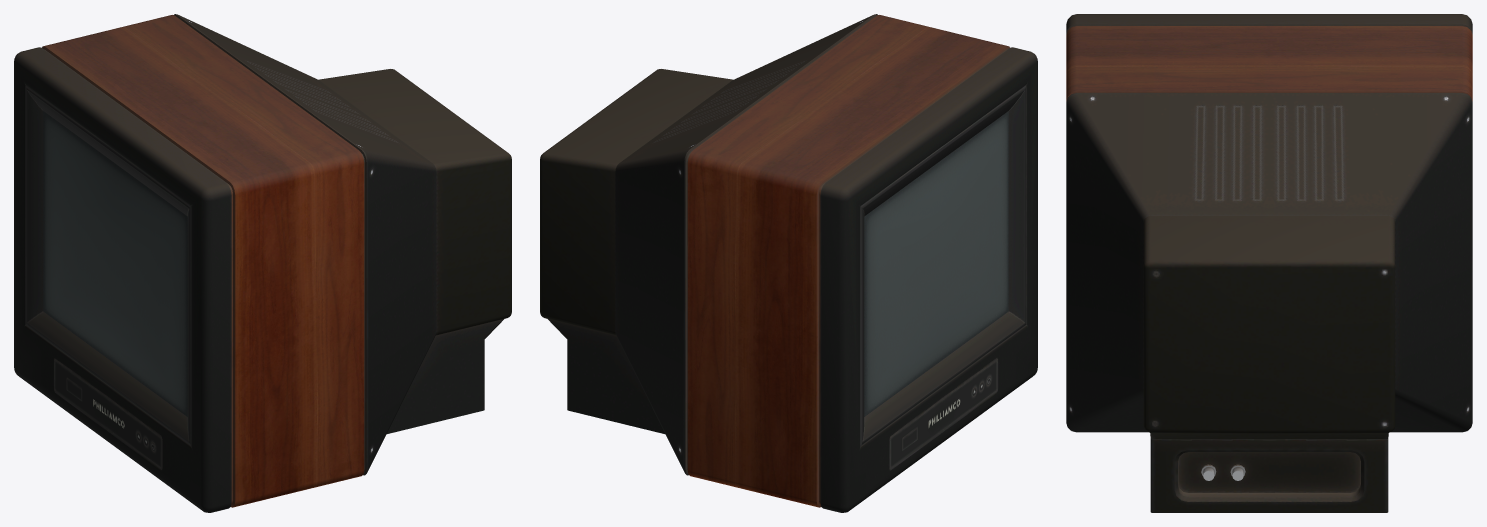
The model's file is tv_reference.001.fbx.
3 views of the same model, side by side, from view 1: azimuth 30°, elevation 25°; view 2: azimuth 150°, elevation 25°; view 3: azimuth 270°, elevation 25° (orthographic). The views are drawn at different scales.
Visible parts, largest first — view 1: tv_reference.001; view 2: tv_reference.001; view 3: tv_reference.001.
Part boxes in pixels (bbox=[...]): tv_reference.001: bbox=[14, 14, 511, 512]; tv_reference.001: bbox=[540, 14, 1037, 512]; tv_reference.001: bbox=[1066, 14, 1472, 512].
Size of the model in its own units: 71.73 by 64.49 by 70.09.
